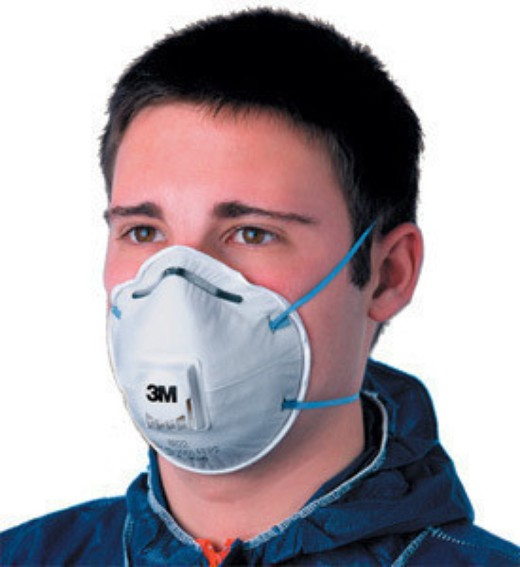face_mask: (97, 103, 349, 452)
